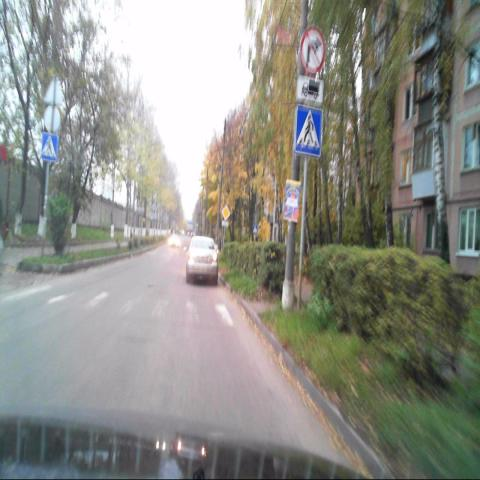3_18: (300, 25, 326, 72)
8_4_1: (297, 75, 325, 103)
